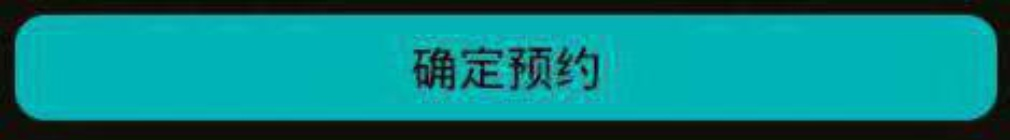Button: (1, 1, 1009, 139)
